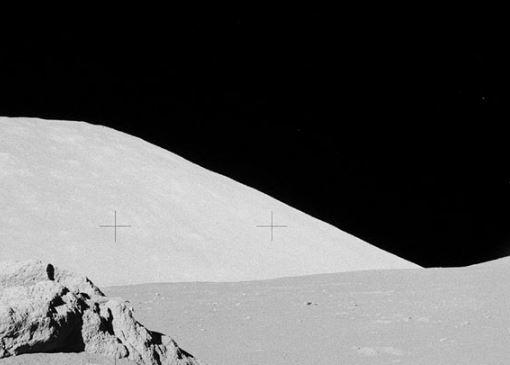rock: (0, 262, 197, 365)
